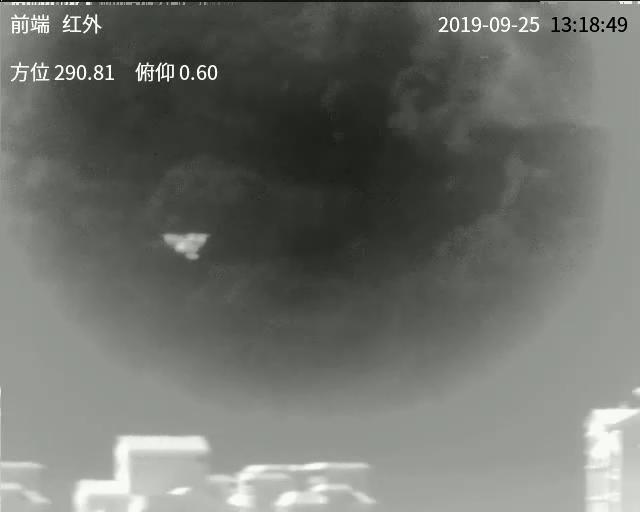uav: (162, 229, 210, 263)
